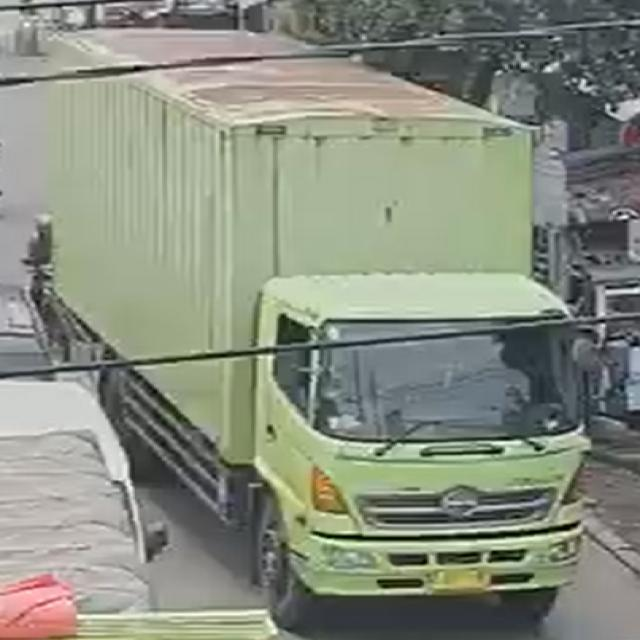truck: (30, 10, 640, 632)
